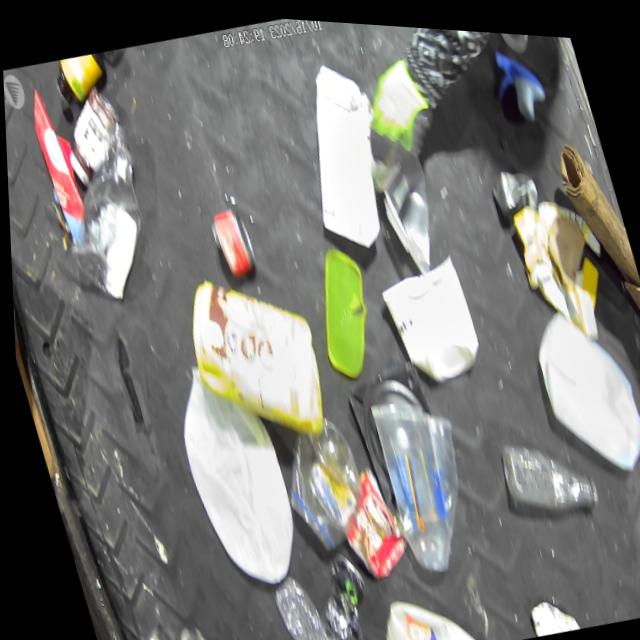can: (321, 454, 411, 582), (299, 538, 379, 640), (207, 200, 259, 281), (130, 612, 197, 640)
milk_jug: (156, 344, 309, 597), (521, 286, 640, 480)
non_white_jug: (166, 250, 337, 458)
plastic_bottle: (34, 109, 171, 310), (489, 415, 599, 522), (262, 559, 347, 640)
